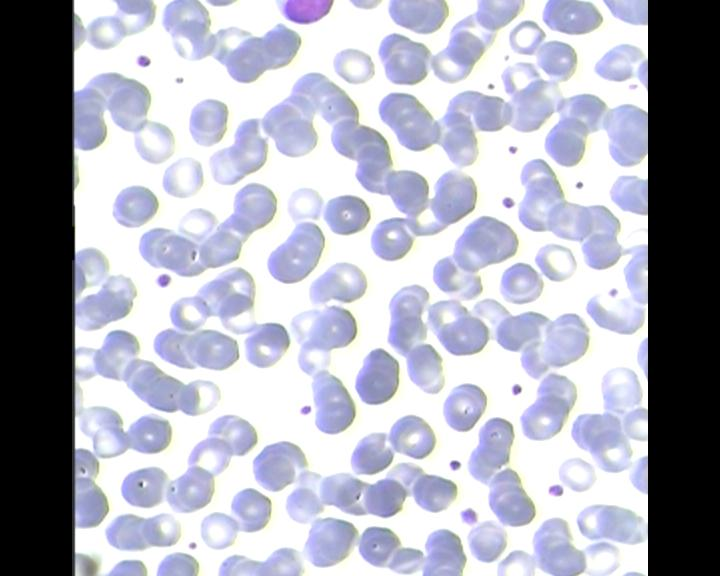lymp: (274, 0, 333, 24)
